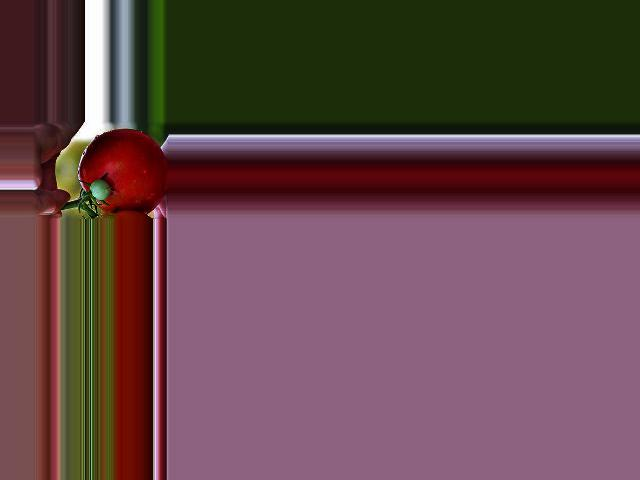tomato: (77, 129, 168, 213)
